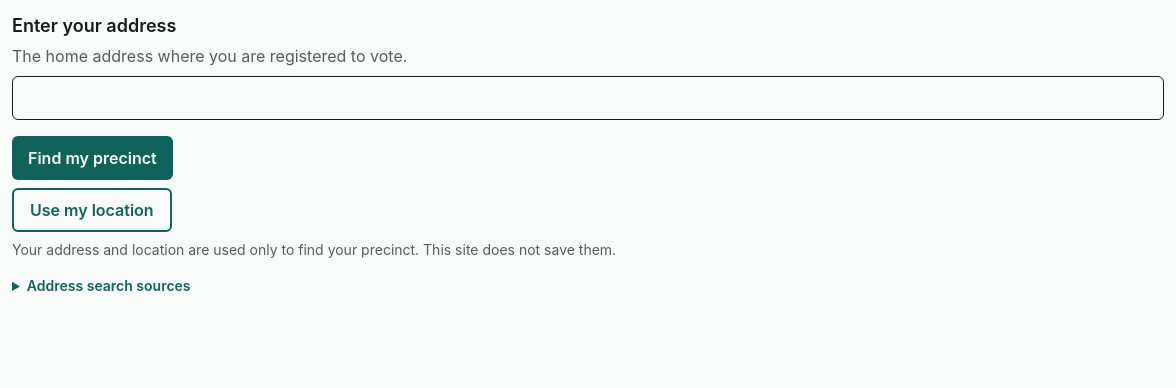
Test case: AddressLookup › says when no address matched, with the official lookup as a fallback
Type "1 Nowhere St" into the dropdown labelled "Enter your address".
click(588, 98); type("1 Nowhere St")  # box [12, 76, 1164, 120]
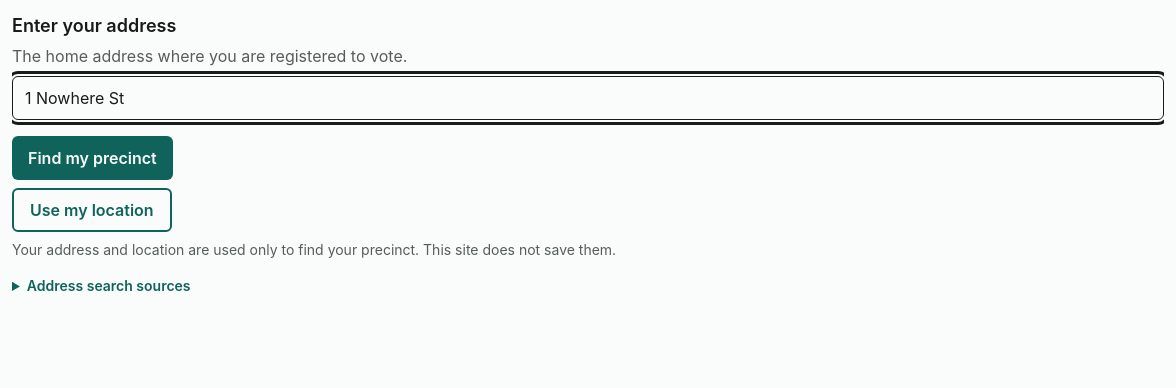
Click the button "Find my precinct".
click(92, 158)  # box [12, 136, 173, 180]
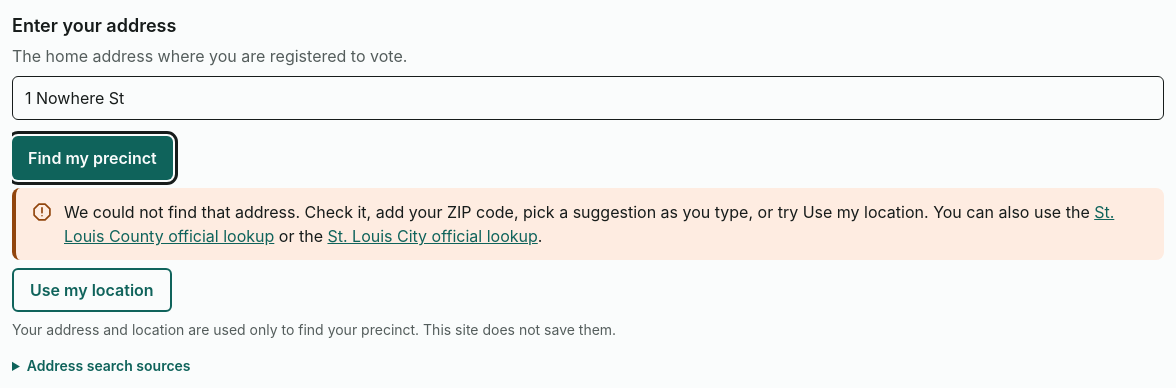
Check: the text "We could not find that address. Check it, add your ZIP code, pick a suggestion as you type, or try Use my location." is shown, box [64, 202, 929, 222]
